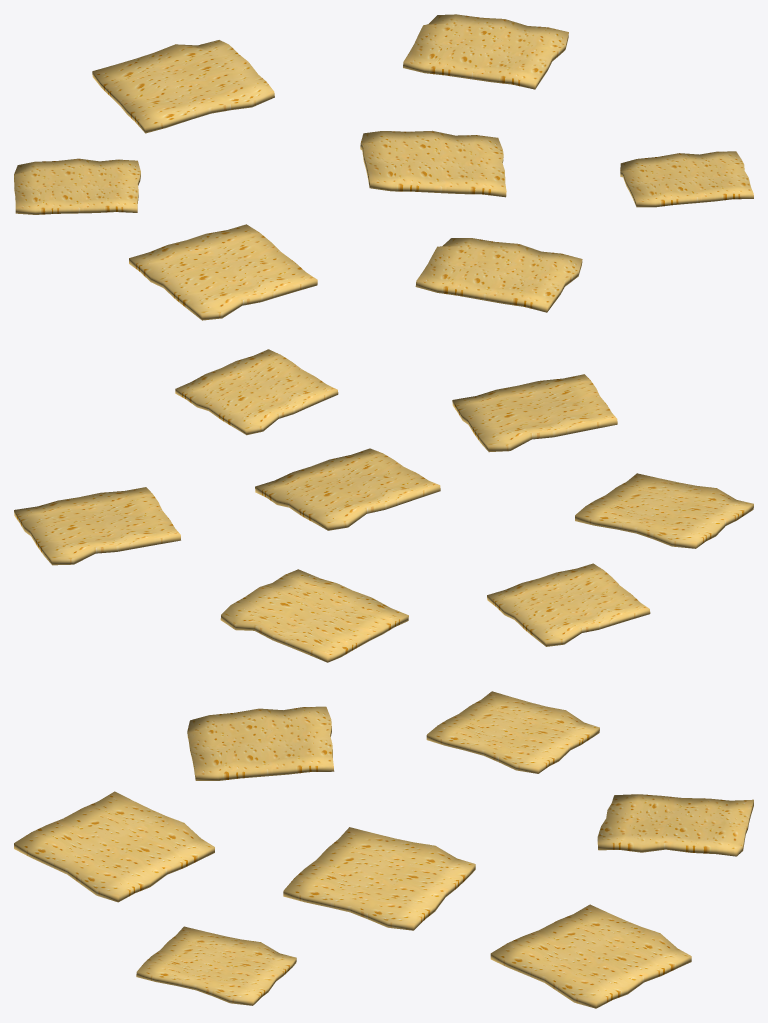
File: cheese-slice_topping.fbx
3 views of the same model, one above another, from view 1: azimuth 30°, elevation 25°; view 2: azimuth 150°, elevation 25°; view 3: azimuth 270°, elevation 25° (orthographic). The views are drawn at different scales.
Parts seen in each view (by area): view 1: cheese_slice.006, cheese_slice.002, cheese_slice.005, cheese_slice, cheese_slice.003, cheese_slice.001, cheese_slice.004; view 2: cheese_slice.006, cheese_slice.005, cheese_slice, cheese_slice.003, cheese_slice.002, cheese_slice.001, cheese_slice.004; view 3: cheese_slice.003, cheese_slice, cheese_slice.005, cheese_slice.002, cheese_slice.001, cheese_slice.006, cheese_slice.004.
Boxes of the visible parts, x1,y1,x2,y2 form: cheese_slice.006: (92, 40, 274, 133); cheese_slice.002: (129, 224, 317, 320); cheese_slice.005: (403, 14, 568, 89); cheese_slice: (360, 130, 506, 197); cheese_slice.003: (415, 238, 582, 312); cheese_slice.001: (14, 158, 140, 214); cheese_slice.004: (620, 151, 753, 207); cheese_slice.006: (220, 569, 408, 662); cheese_slice.005: (14, 487, 180, 565); cheese_slice: (255, 448, 440, 530); cheese_slice.003: (452, 374, 617, 452); cheese_slice.002: (575, 473, 753, 548); cheese_slice.001: (487, 563, 650, 646); cheese_slice.004: (175, 349, 338, 435); cheese_slice.003: (14, 791, 214, 902); cheese_slice: (283, 827, 475, 930); cheese_slice.005: (490, 904, 691, 1008); cheese_slice.002: (187, 706, 334, 780); cheese_slice.001: (426, 691, 599, 773); cheese_slice.006: (597, 794, 753, 856); cheese_slice.004: (136, 926, 296, 1005).
Bounding box in the file's own units: 49.25 × 2.07 × 50.76.
7 materials, 7 textured.
